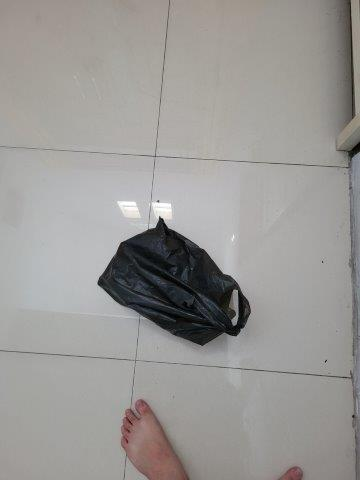plastik: (97, 220, 252, 345)
